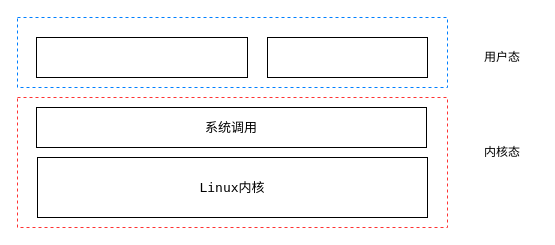
This 555x245 diagram has some shape labels left out. Here are the shapes that lost their labels. From the top down, the box of each, then its label:
(36, 36, 248, 78): 库函数
(266, 36, 428, 78): shell
